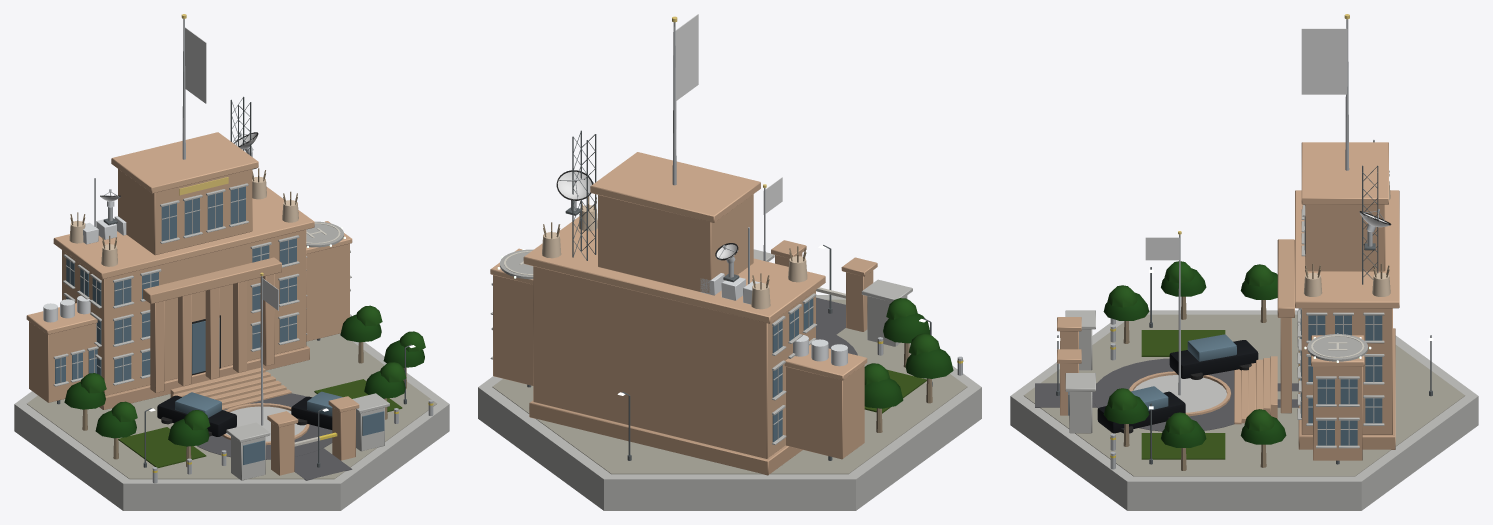
File: hq_africa.glb
3 renders of one model, left to right at view 1: azimuth 30°, elevation 25°; view 2: azimuth 150°, elevation 25°; view 3: azimuth 270°, elevation 25°, orthographic. The views are drawn at different scales.
Visible parts, largest first — view 1: stone, wall_concrete, pavers, glass, leaf, asphalt, turf, paint, banner, cladding, metal, plaster (+2 smaller); view 2: stone, wall_concrete, pavers, leaf, banner, cladding, steel_dark, plaster, metal, glass, asphalt, paint (+2 smaller); view 3: stone, wall_concrete, pavers, leaf, glass, banner, asphalt, paint, turf, metal, steel_dark, wood (+1 smaller).
Part boxes in pixels (<box>): stone: <box>26,132,359,475</box>; wall_concrete: <box>14,183,449,510</box>; pavers: <box>27,333,436,479</box>; glass: <box>55,186,384,464</box>; leaf: <box>64,305,425,446</box>; asphalt: <box>197,393,352,480</box>; turf: <box>118,379,402,468</box>; paint: <box>100,133,340,446</box>; banner: <box>185,27,278,310</box>; cladding: <box>43,216,126,322</box>; metal: <box>94,19,433,483</box>; plaster: <box>69,176,298,266</box>; stone: <box>490,152,877,475</box>; wall_concrete: <box>478,249,981,510</box>; pavers: <box>492,299,967,474</box>; leaf: <box>864,298,953,408</box>; banner: <box>673,14,782,214</box>; cladding: <box>700,273,847,366</box>; steel_dark: <box>527,130,932,460</box>; plaster: <box>542,205,807,309</box>; metal: <box>559,22,962,375</box>; glass: <box>772,298,813,442</box>; asphalt: <box>816,297,857,355</box>; paint: <box>504,171,845,298</box>; stone: <box>1057,142,1399,460</box>; wall_concrete: <box>1010,204,1478,510</box>; pavers: <box>1023,314,1465,476</box>; leaf: <box>1103,261,1286,447</box>; glass: <box>1068,205,1382,445</box>; banner: <box>1145,28,1347,260</box>; asphalt: <box>1035,358,1298,431</box>; paint: <box>1097,211,1391,433</box>; turf: <box>1141,330,1225,459</box>; metal: <box>1110,19,1385,469</box>; steel_dark: <box>1056,165,1432,464</box>; wood: <box>1123,170,1389,470</box>.
Bounding box in the file's own units: 21.3 × 23.78 × 24.6.
